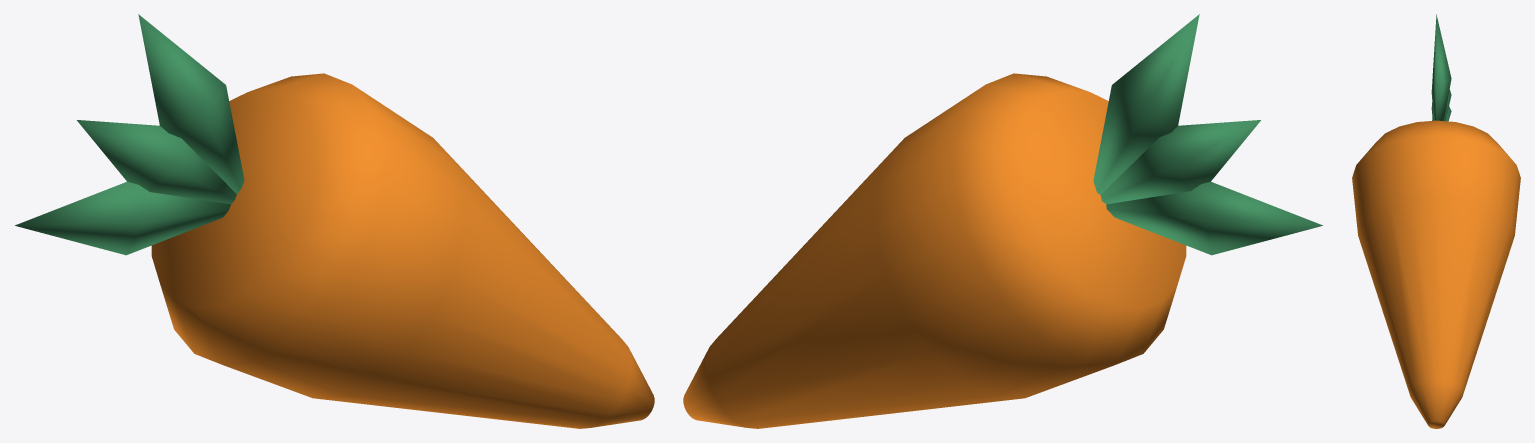
File: carrot.glb
3 views of the same model, side by side, from view 1: azimuth 30°, elevation 25°; view 2: azimuth 150°, elevation 25°; view 3: azimuth 270°, elevation 25° (orthographic). The views are drawn at different scales.
Parts seen in each view (by area): view 1: carrot, leaves.002, leaves, leaves.001; view 2: carrot, leaves.002, leaves, leaves.001; view 3: carrot, leaves.002.
Part boxes in pixels (box(x1,y1,x2,y2)): carrot: box(151, 73, 654, 428); leaves.002: box(138, 14, 244, 193); leaves: box(15, 181, 230, 255); leaves.001: box(77, 120, 236, 204); carrot: box(683, 73, 1186, 428); leaves.002: box(1093, 14, 1199, 194); leaves: box(1106, 181, 1322, 255); leaves.001: box(1100, 120, 1260, 204); carrot: box(1352, 120, 1520, 428); leaves.002: box(1431, 14, 1451, 120).
Size of the model in its own units: 0.6578 by 0.5197 by 0.28.
